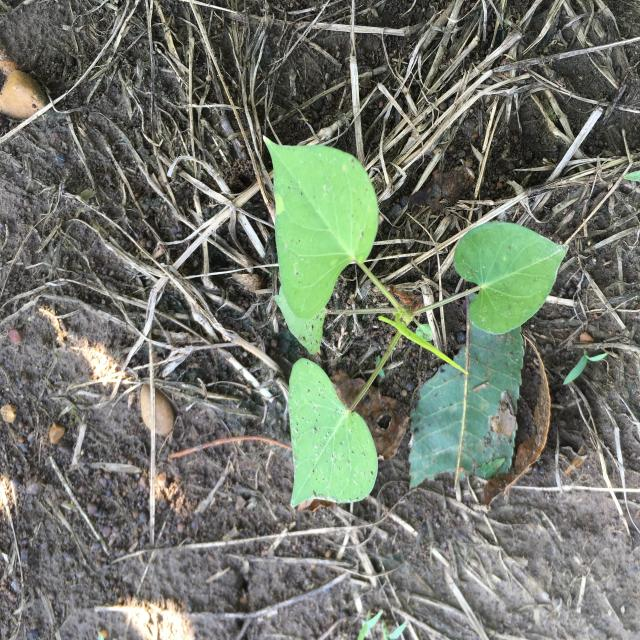MorningGlory: (263, 136, 569, 507)
